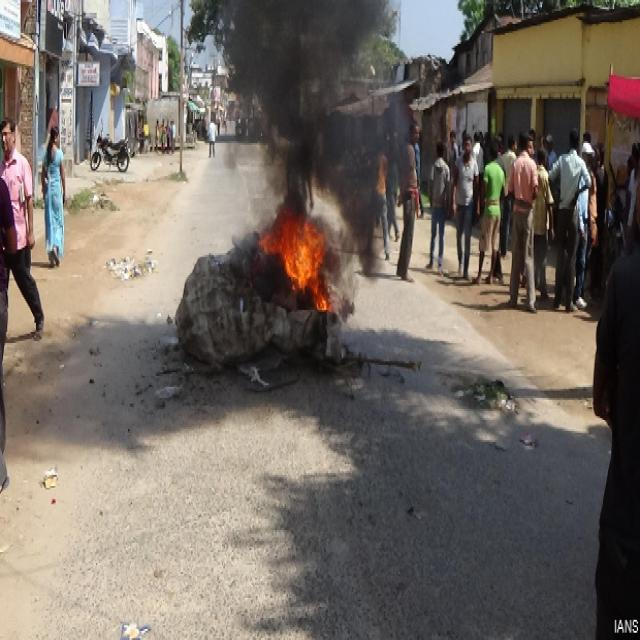fire: (266, 211, 330, 315)
smoke: (256, 7, 386, 204)
